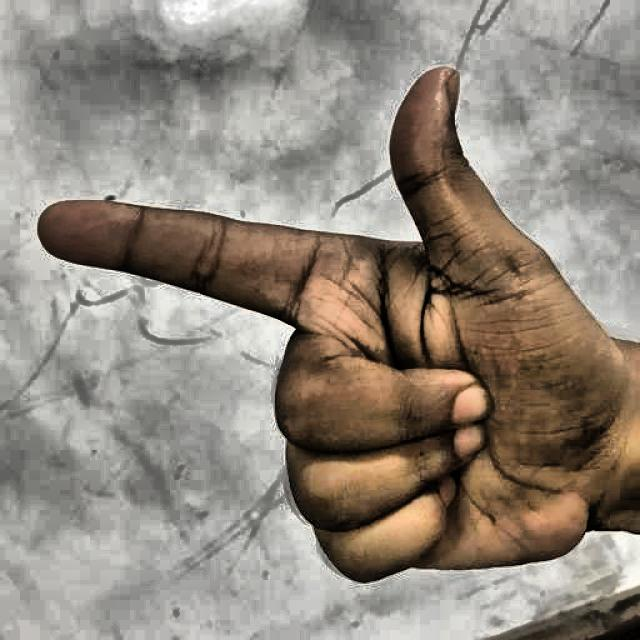Tha: (22, 52, 612, 596)
